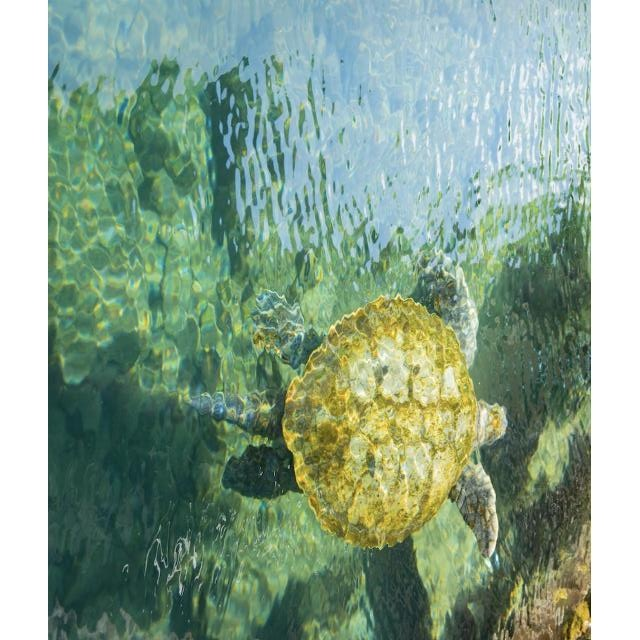turtle: (180, 252, 508, 558)
